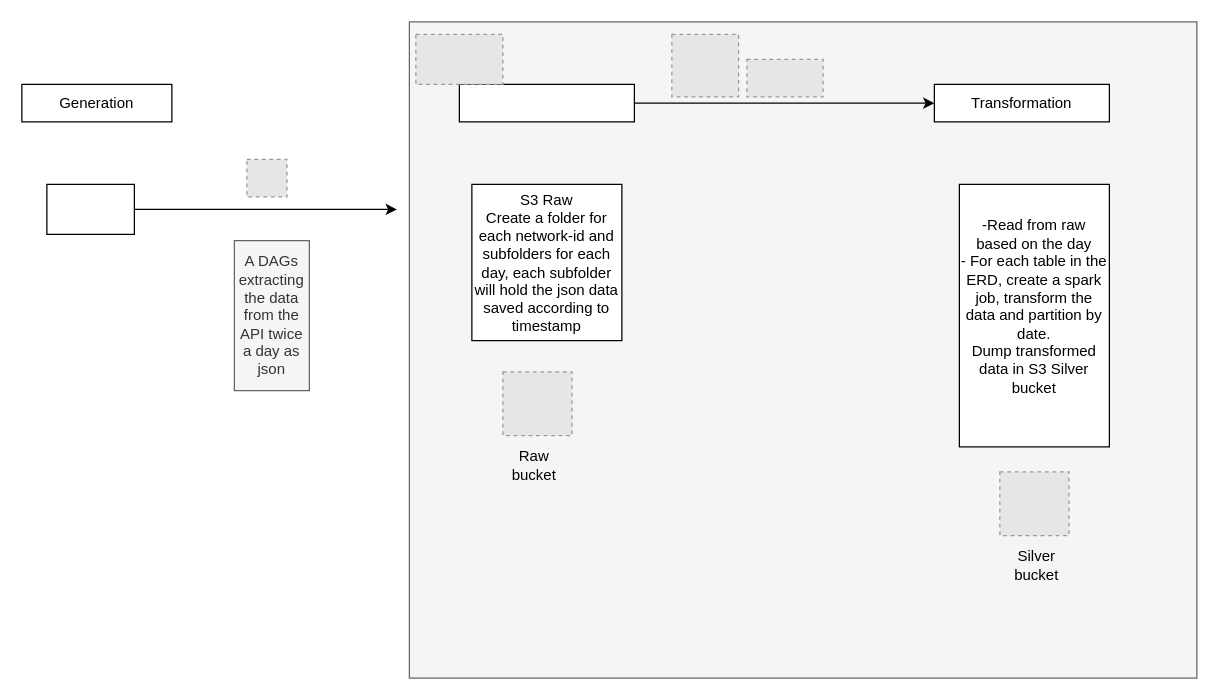
Some shapes in this 1219 by 700 pixel diagram are drawn without their labels. Grey dashed boxes stand in for pictures. The centre of each missing label's shape, as x and y in pixels:
API: [90,208]
Ingestion: [546,102]
